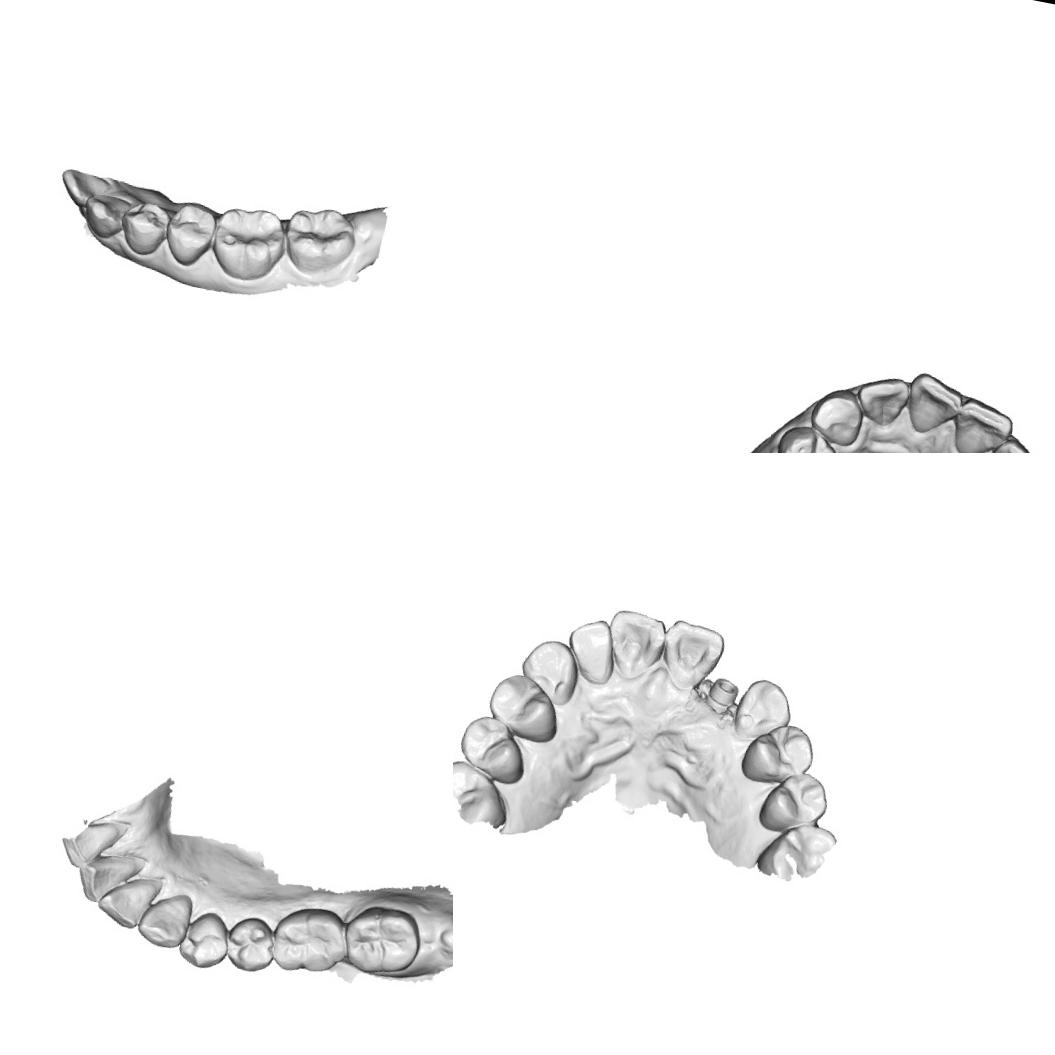canine: (514, 634, 584, 707), (730, 672, 797, 744), (132, 886, 196, 952), (805, 382, 868, 449), (78, 188, 136, 243)
implant: (704, 674, 741, 712)
incisor: (652, 614, 731, 702), (598, 606, 669, 696), (560, 612, 624, 690), (900, 368, 966, 440), (73, 845, 143, 911), (93, 868, 161, 932), (949, 393, 1018, 453), (850, 369, 914, 432), (54, 164, 114, 210), (982, 431, 1046, 453)
molar: (204, 198, 293, 288), (336, 897, 428, 984), (264, 898, 354, 981), (752, 812, 845, 889), (278, 198, 362, 282), (453, 755, 514, 830)
premolar: (735, 714, 821, 796), (453, 708, 536, 787), (482, 668, 566, 744), (754, 764, 834, 840), (158, 197, 220, 272), (173, 903, 235, 973), (113, 194, 174, 262), (220, 911, 280, 976), (770, 420, 846, 453)
